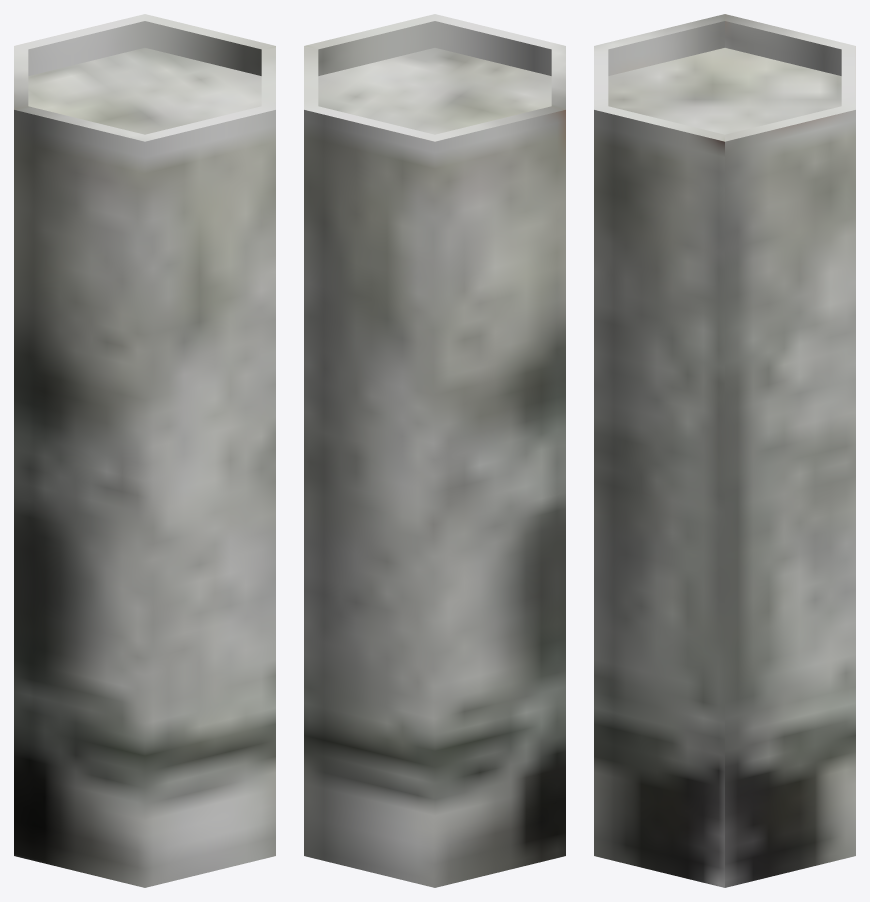
The model's file is DrinkV4.fbx.
3 renders of one model, left to right at view 1: azimuth 30°, elevation 25°; view 2: azimuth 150°, elevation 25°; view 3: azimuth 270°, elevation 25°, orthographic.
Visible parts, largest first — view 1: Cocktails.005; view 2: Cocktails.005; view 3: Cocktails.005.
Part boxes in pixels (box(x1,y1,x2,y2)): Cocktails.005: box(14, 14, 275, 887); Cocktails.005: box(304, 14, 565, 887); Cocktails.005: box(594, 14, 855, 887).
Bounding box in the file's own units: 0.1028 × 0.2801 × 0.089.
